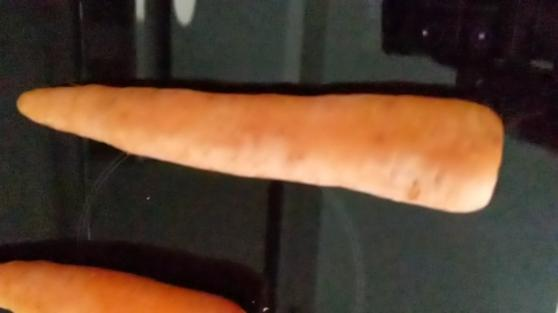carrot: (17, 83, 503, 216), (2, 253, 254, 313)
